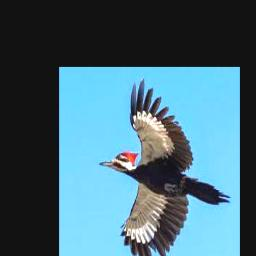Woodpecker: (99, 77, 231, 256)
